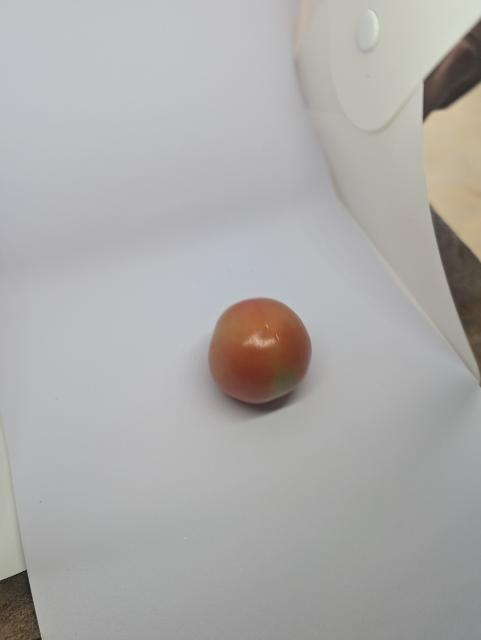turning: (199, 278, 364, 438)
